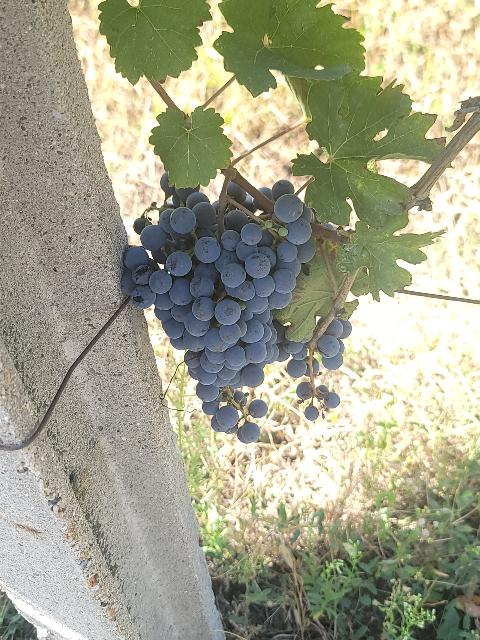grapes: (122, 179, 310, 444)
